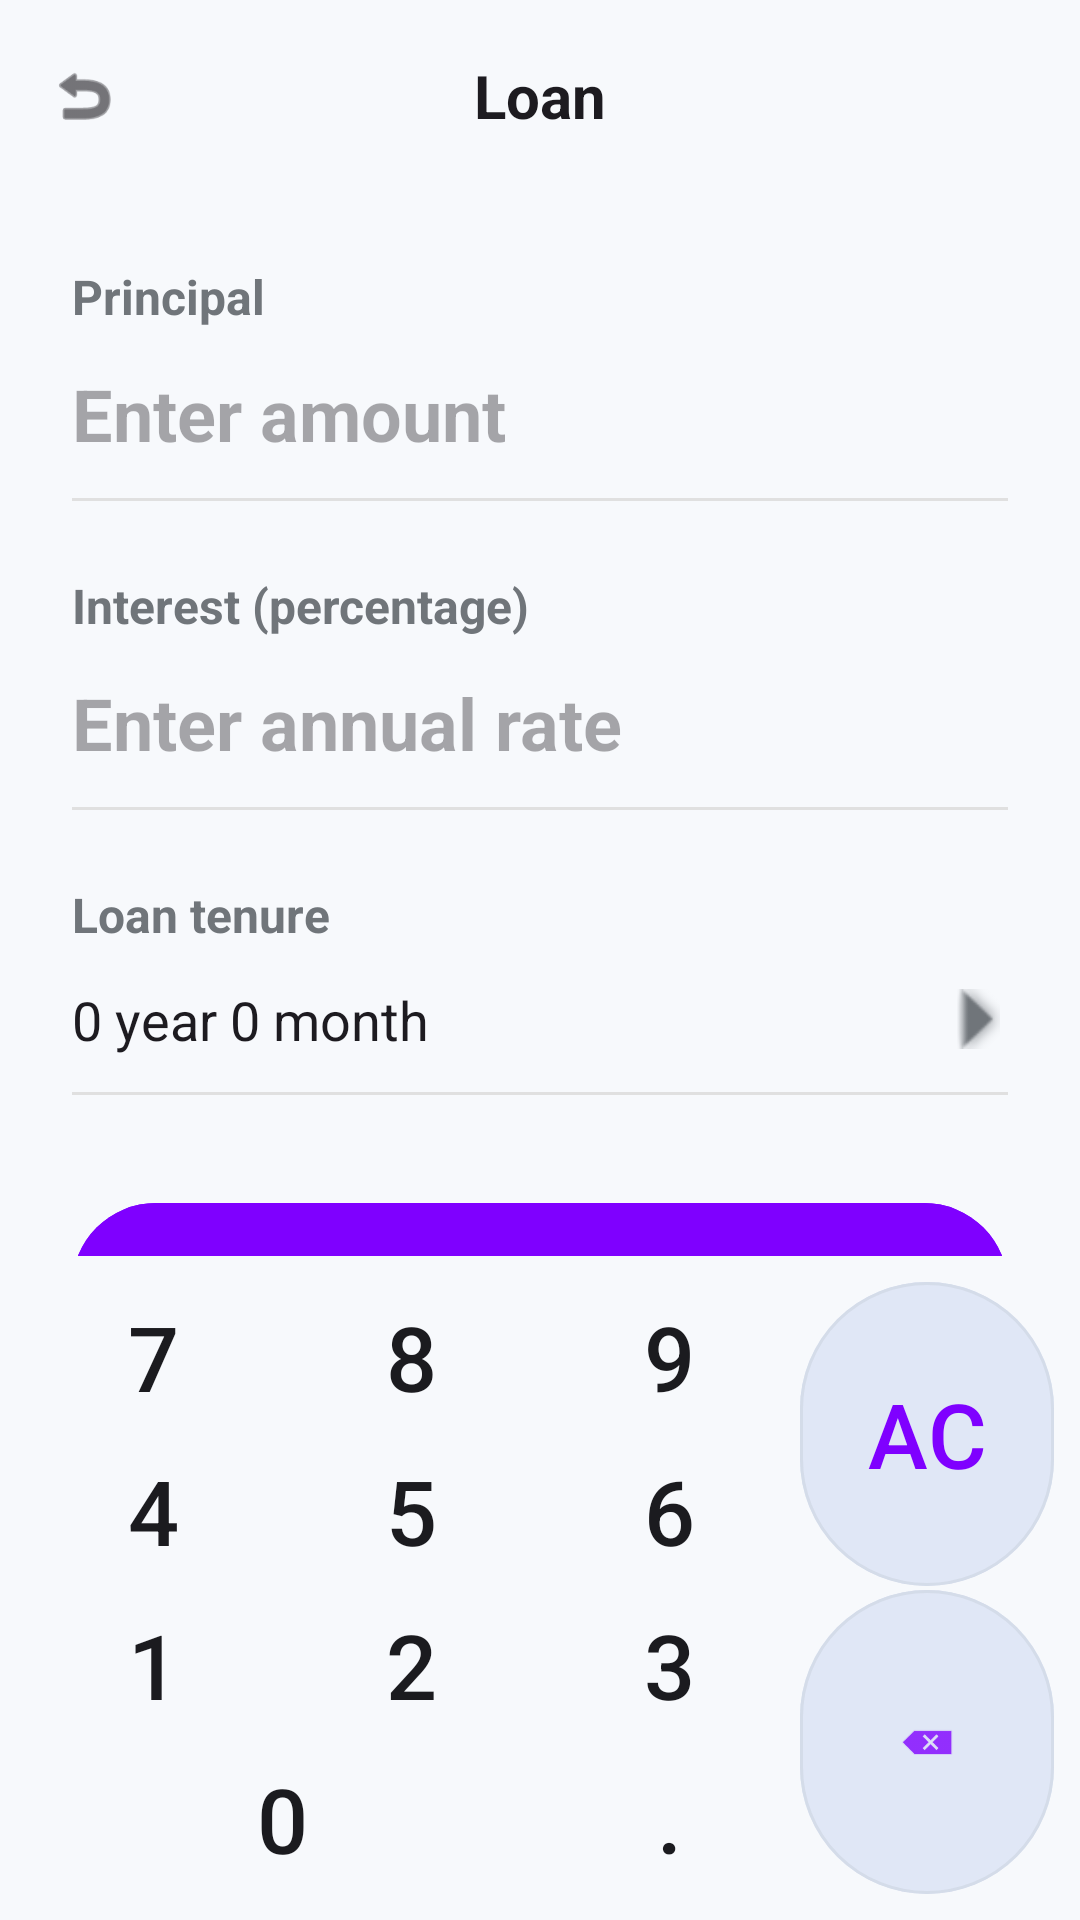

Locate icon controls on the screen. Image size 1080px x 1920px, boxes as bbox=[x1, y1, x2, y2].
delete: bbox=[800, 1590, 1054, 1894]
revert: bbox=[59, 73, 111, 120]
